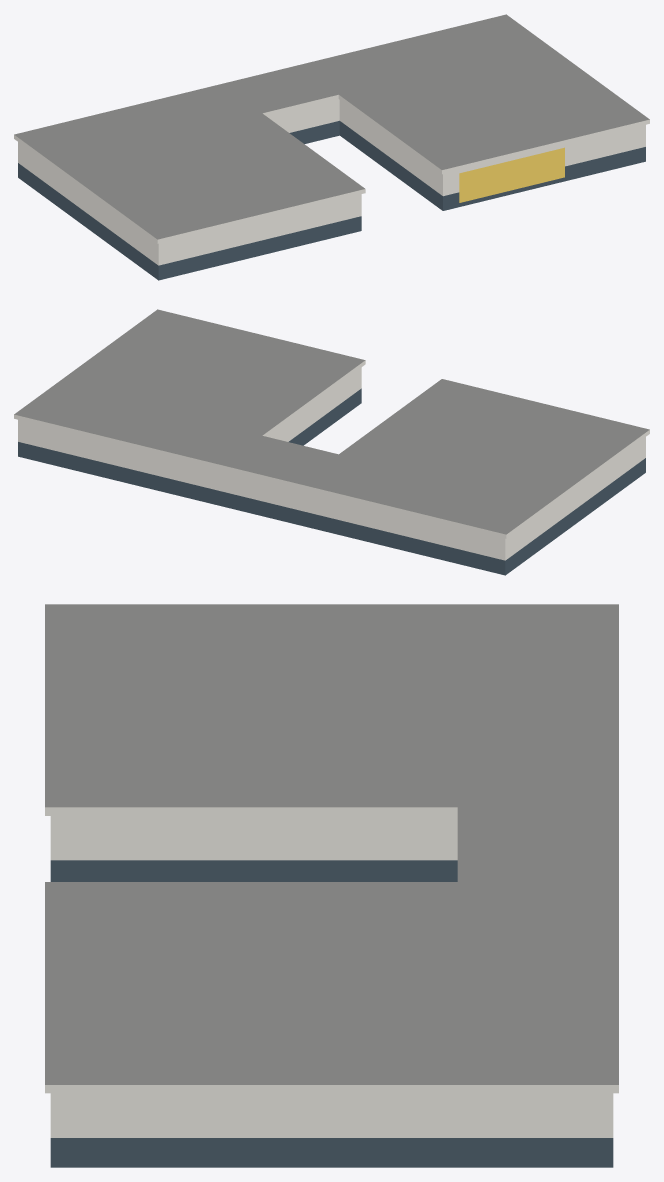
File: kexp_northwest_rooms.glb
3 renders of one model, top to bottom at view 1: azimuth 30°, elevation 25°; view 2: azimuth 150°, elevation 25°; view 3: azimuth 270°, elevation 25°, orthographic. The views are drawn at different scales.
Visible parts, largest first — view 1: kexp_northwest_rooms; view 2: kexp_northwest_rooms; view 3: kexp_northwest_rooms.
Boxes of the visible parts, x1,y1,x2,y2 form: kexp_northwest_rooms: (14, 14, 649, 280); kexp_northwest_rooms: (14, 309, 649, 575); kexp_northwest_rooms: (45, 604, 618, 1167).
Bounding box in the file's own units: 121 × 10 × 61.2.
Materials: 1 (1 with a texture image).
